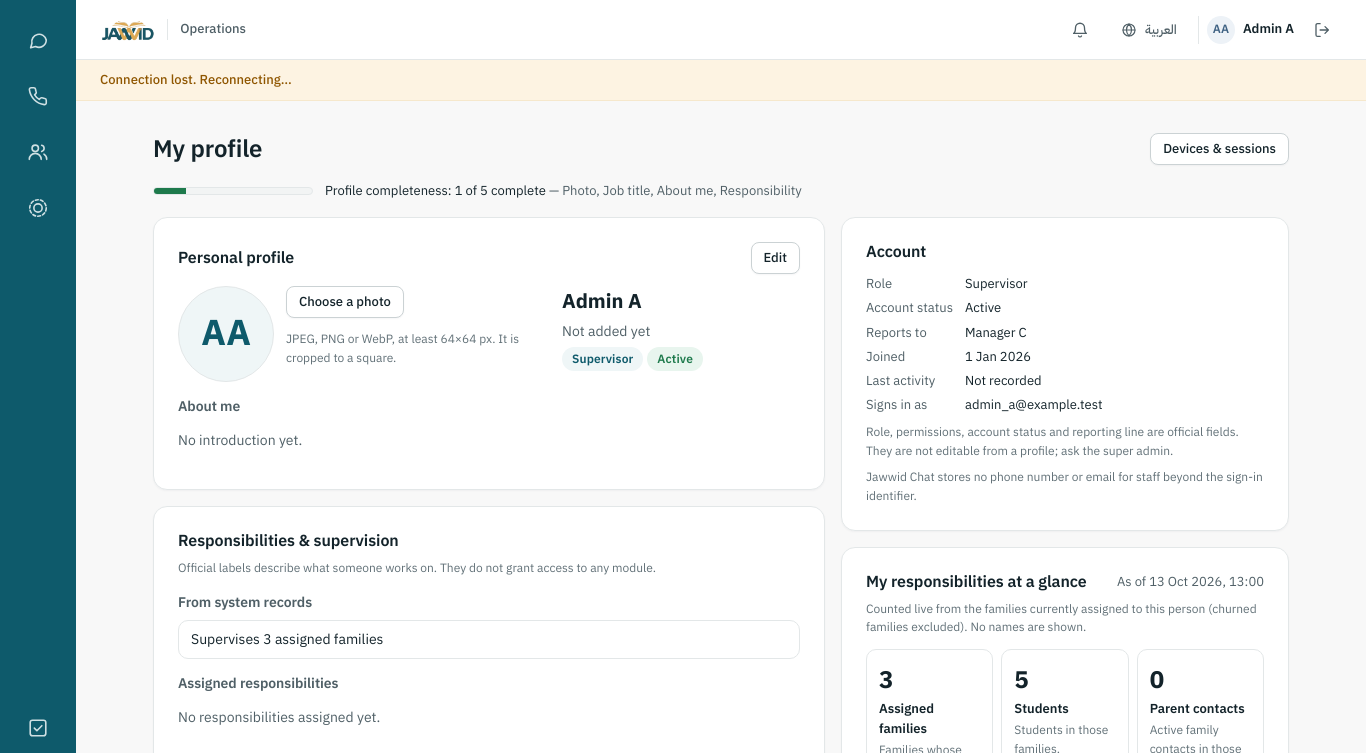
Test case: an admin's own profile › a conflict keeps what the user typed, and loading the latest version does not clear it
Click the button "Edit" at (775, 258), box left=750, top=242, right=800, bottom=274
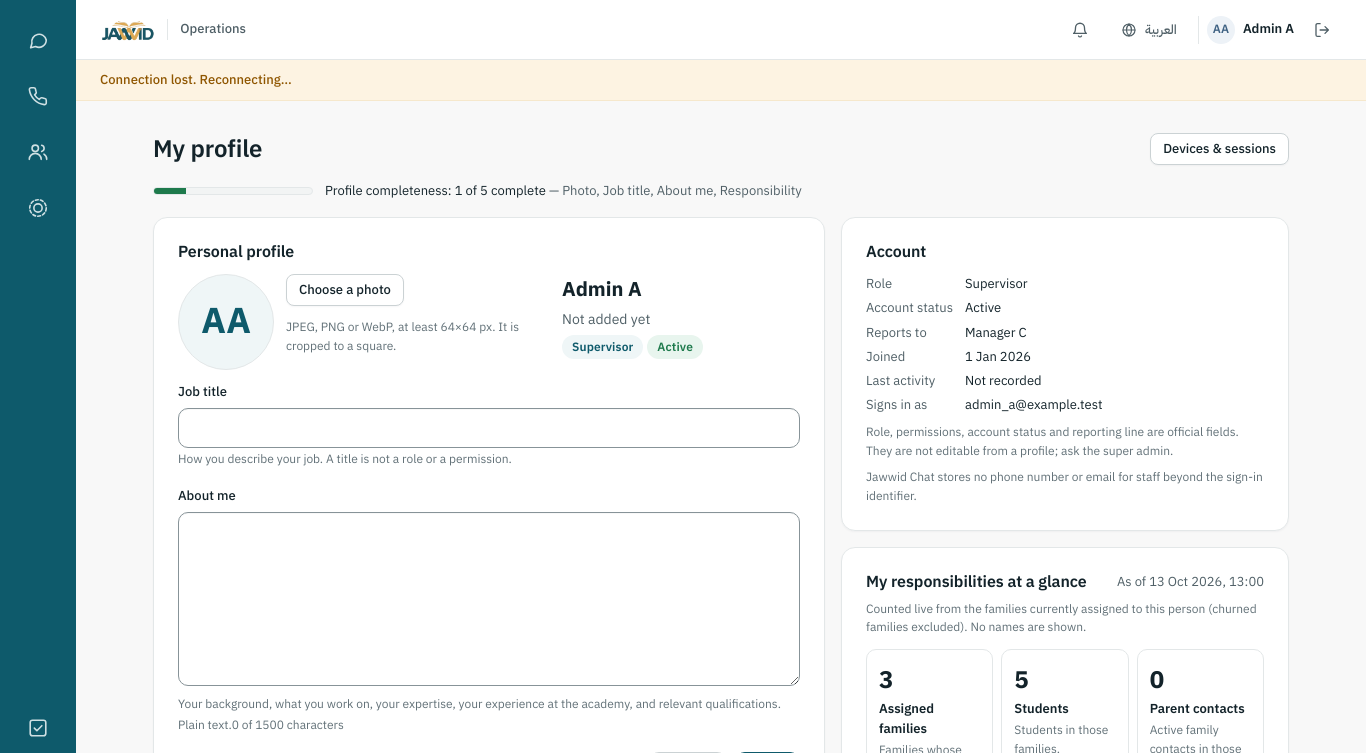
Type "my careful text" into the text box labelled "About me" at (489, 599), box left=178, top=512, right=800, bottom=686
(page scrolled)
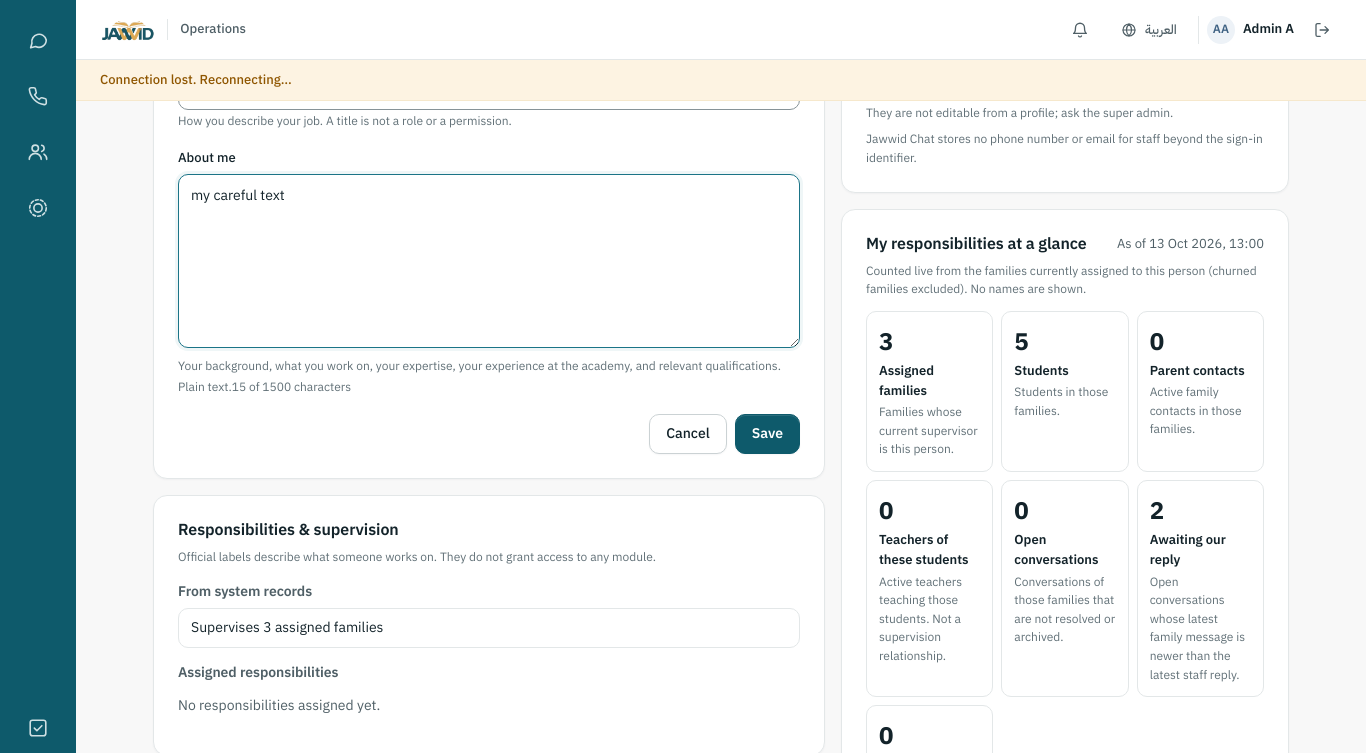
Click the button "Save" at (767, 434), box left=735, top=414, right=800, bottom=454
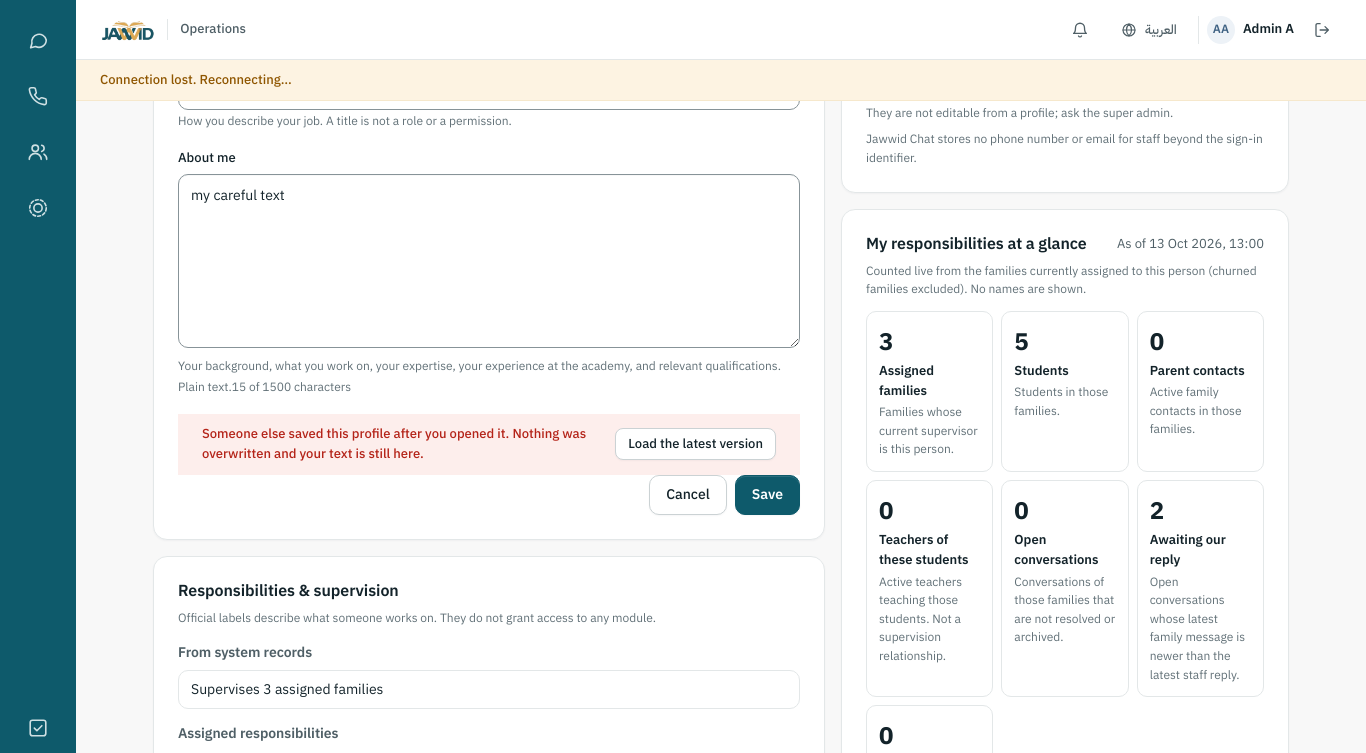
Expected: the 2nd message shows "Someone else saved this profile", left=202, top=424, right=586, bottom=463
Click the button "Load the latest version" at (696, 444), box left=615, top=428, right=776, bottom=460
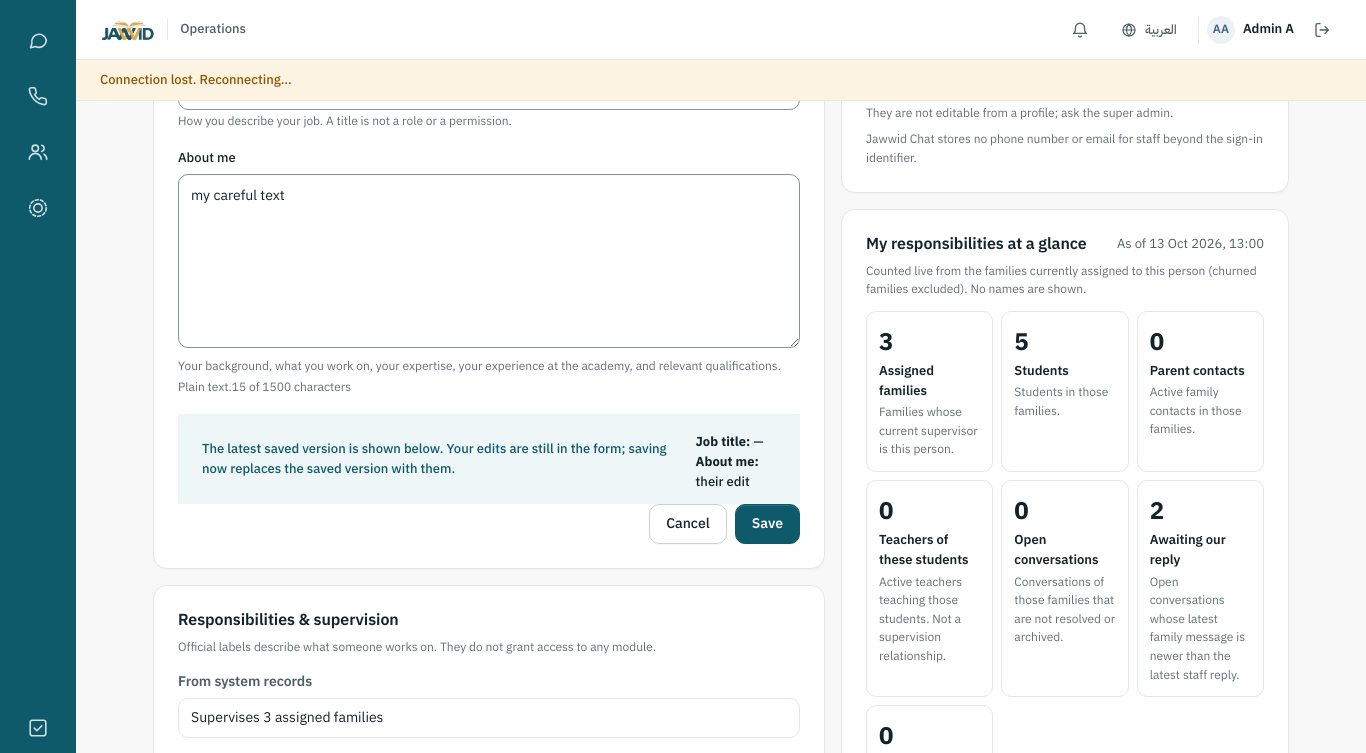
Expected: the text "their edit" is shown, left=696, top=472, right=750, bottom=491
